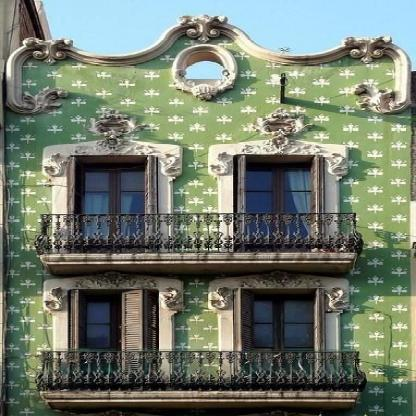Balcony: (39, 351, 355, 393), (39, 213, 355, 255)
Building Outline: (0, 14, 416, 416)
Deco: (248, 107, 315, 140), (83, 107, 147, 139)
Door: (242, 294, 318, 384), (82, 294, 158, 384), (239, 164, 315, 254), (79, 164, 155, 254)
Door Hole: (69, 290, 159, 390), (69, 155, 159, 255), (234, 290, 319, 390), (234, 155, 319, 255)
Facade: (1, 71, 416, 416)
Floor: (1, 260, 415, 393)
Floor Slab: (1, 255, 415, 259), (1, 393, 415, 397)
Molding: (5, 14, 413, 116)
Top Floor: (1, 81, 415, 256)
Window Outline: (208, 270, 351, 390), (208, 138, 350, 255), (44, 271, 184, 389), (42, 139, 183, 255)
